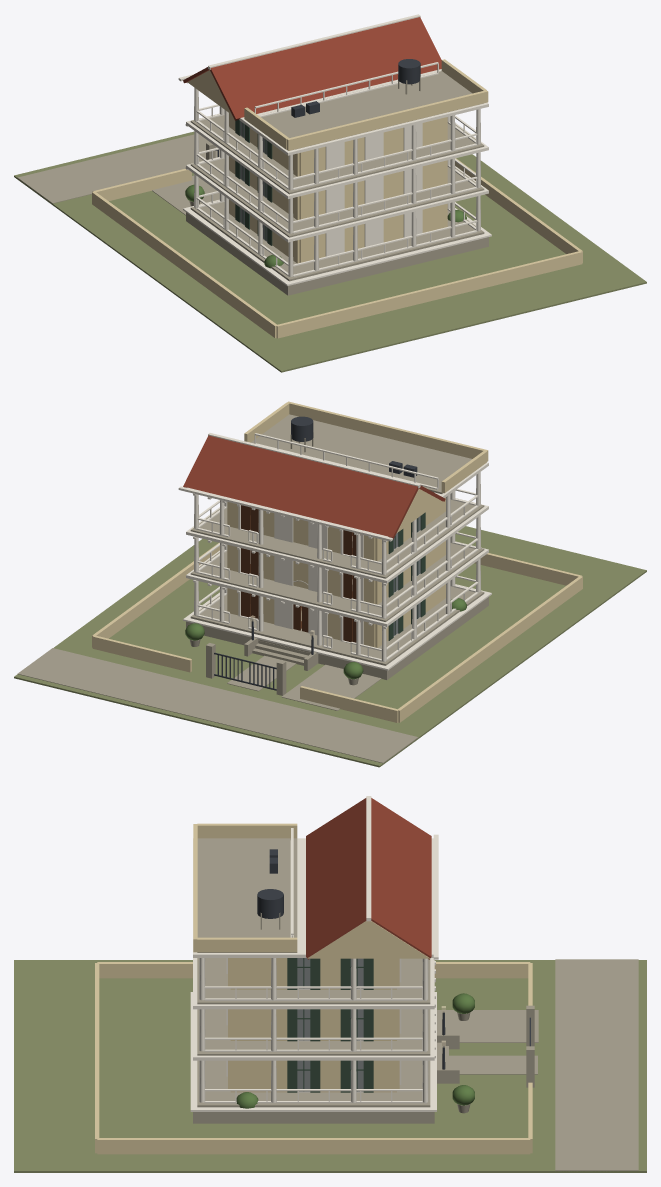
The model's file is colonial_house.glb.
The picture shows the model from 3 angles, top to bottom: view 1: azimuth 30°, elevation 25°; view 2: azimuth 150°, elevation 25°; view 3: azimuth 270°, elevation 25°; orthographic projection. The views are drawn at different scales.
Parts seen in each view (by area): view 1: NOCOL_MAT_Ground, STATIC_MAT_Trim, STATIC_MAT_Wall, STATIC_MAT_Stone, STATIC_MAT_Roof, NOCOL_MAT_Stone, STATIC_MAT_Shutter, STATIC_MAT_Metal; view 2: NOCOL_MAT_Ground, STATIC_MAT_Trim, STATIC_MAT_Stone, STATIC_MAT_Wall, NOCOL_MAT_Stone, STATIC_MAT_Roof, STATIC_MAT_Teak, STATIC_MAT_Shutter, STATIC_MAT_Metal, NOCOL_MAT_Foliage; view 3: NOCOL_MAT_Ground, STATIC_MAT_Wall, STATIC_MAT_Stone, NOCOL_MAT_Stone, STATIC_MAT_Trim, STATIC_MAT_Roof, STATIC_MAT_Shutter, STATIC_MAT_Glass, STATIC_MAT_Metal, NOCOL_MAT_Foliage.
Part boxes in pixels (x1,y1,x2,y2): NOCOL_MAT_Ground: (14, 131, 646, 372); STATIC_MAT_Trim: (178, 14, 491, 286); STATIC_MAT_Wall: (92, 59, 582, 338); STATIC_MAT_Stone: (186, 71, 488, 295); STATIC_MAT_Roof: (183, 17, 441, 120); NOCOL_MAT_Stone: (17, 134, 219, 215); STATIC_MAT_Shutter: (235, 120, 272, 245); STATIC_MAT_Metal: (291, 59, 420, 117); NOCOL_MAT_Ground: (14, 526, 646, 767); STATIC_MAT_Trim: (178, 433, 491, 670); STATIC_MAT_Stone: (186, 414, 488, 679); STATIC_MAT_Wall: (92, 401, 582, 722); NOCOL_MAT_Stone: (17, 639, 418, 763); STATIC_MAT_Roof: (183, 435, 445, 539); STATIC_MAT_Teak: (241, 505, 360, 642); STATIC_MAT_Shutter: (388, 512, 425, 640); STATIC_MAT_Metal: (251, 416, 417, 654); NOCOL_MAT_Foliage: (185, 598, 466, 679); NOCOL_MAT_Ground: (14, 960, 646, 1172); STATIC_MAT_Wall: (95, 823, 532, 1154); STATIC_MAT_Stone: (193, 838, 459, 1123); NOCOL_MAT_Stone: (437, 959, 638, 1171); STATIC_MAT_Trim: (190, 796, 438, 1111); STATIC_MAT_Roof: (306, 798, 431, 959); STATIC_MAT_Shutter: (287, 958, 373, 1092); STATIC_MAT_Glass: (297, 958, 363, 1091); STATIC_MAT_Metal: (257, 849, 445, 1069); NOCOL_MAT_Foliage: (236, 993, 474, 1108).
Bounding box in the file's own units: 30 × 13.93 × 38.
